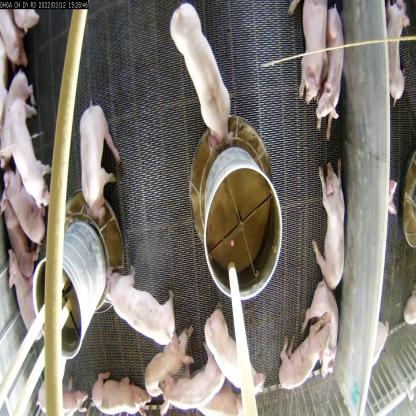Pig: (162, 0, 233, 150), (97, 256, 181, 353), (76, 105, 129, 224), (311, 157, 353, 297), (7, 104, 56, 216), (210, 296, 255, 406), (280, 309, 331, 402), (283, 5, 328, 103), (158, 354, 224, 416), (312, 278, 346, 392), (0, 163, 44, 249), (0, 255, 37, 357), (142, 324, 191, 400), (322, 0, 348, 133), (86, 369, 152, 415), (0, 182, 27, 279), (193, 384, 259, 416)
